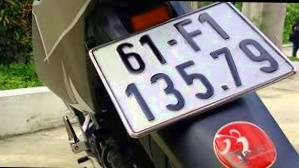Bien-so: (102, 0, 291, 134)
